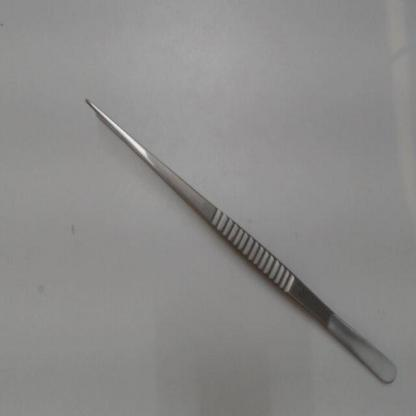DeBakey Dissector: (70, 74, 404, 398)
